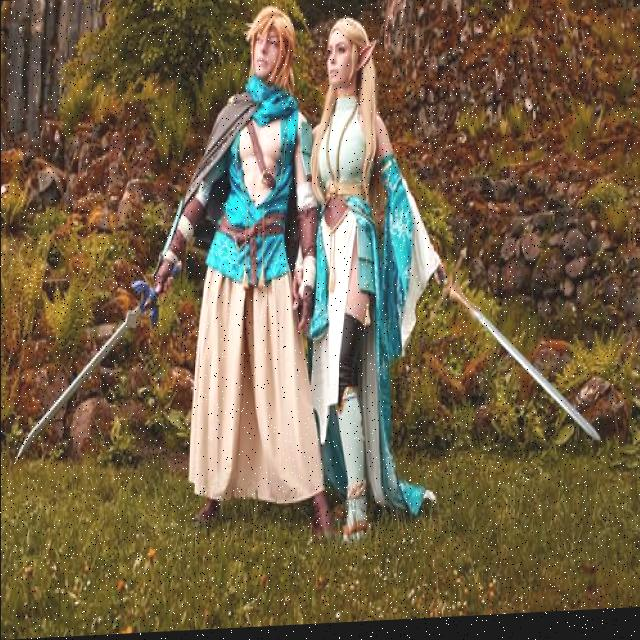knife: (428, 248, 598, 453), (12, 278, 160, 465)
